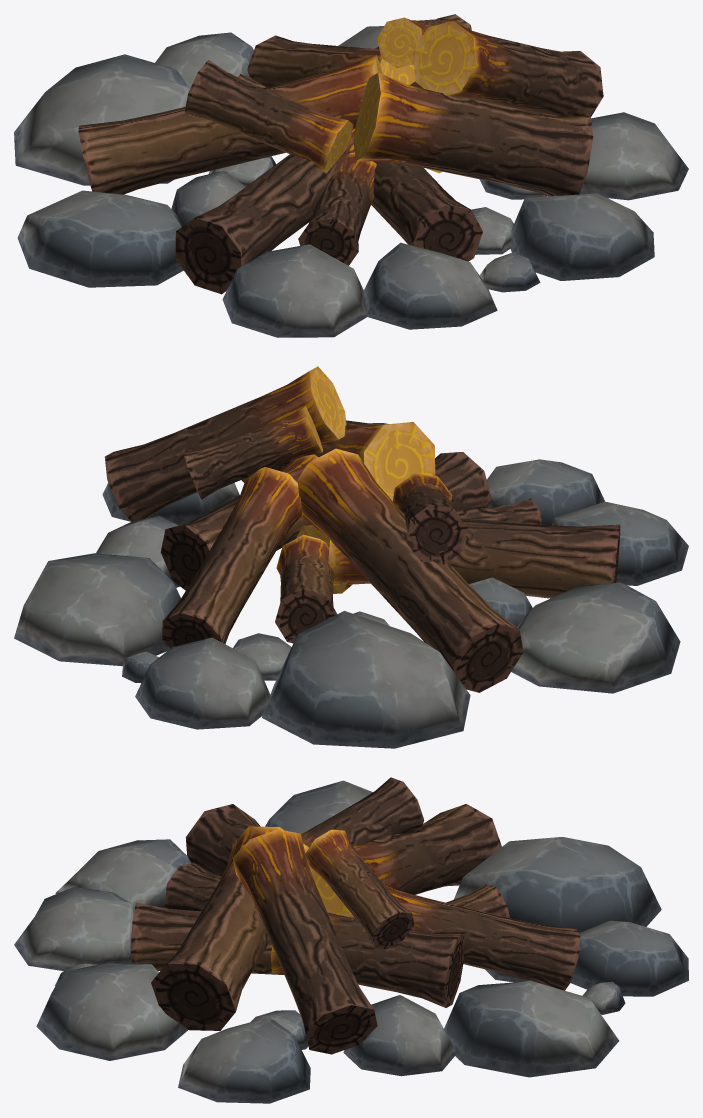
File: Campfire_mesh.fbx
3 views of the same model, one above another, from view 1: azimuth 30°, elevation 25°; view 2: azimuth 150°, elevation 25°; view 3: azimuth 270°, elevation 25° (orthographic). The views are drawn at different scales.
Visible parts, largest first — view 1: Campfire_mesh; view 2: Campfire_mesh; view 3: Campfire_mesh.
Boxes of the visible parts, x1,y1,x2,y2 form: Campfire_mesh: [14, 14, 688, 337]; Campfire_mesh: [14, 366, 688, 748]; Campfire_mesh: [14, 777, 688, 1103].
Size of the model in its own units: 144 by 42.46 by 142.
